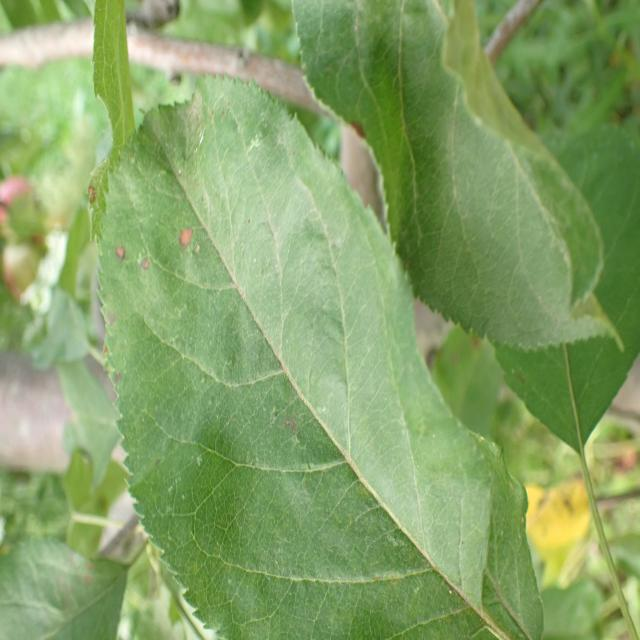frog-eye-leaf-spot: (96, 71, 544, 638)
